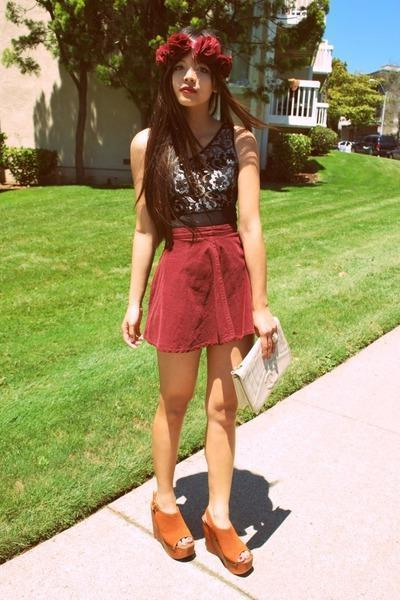skirt: (140, 223, 262, 356)
vest: (153, 120, 241, 238)
